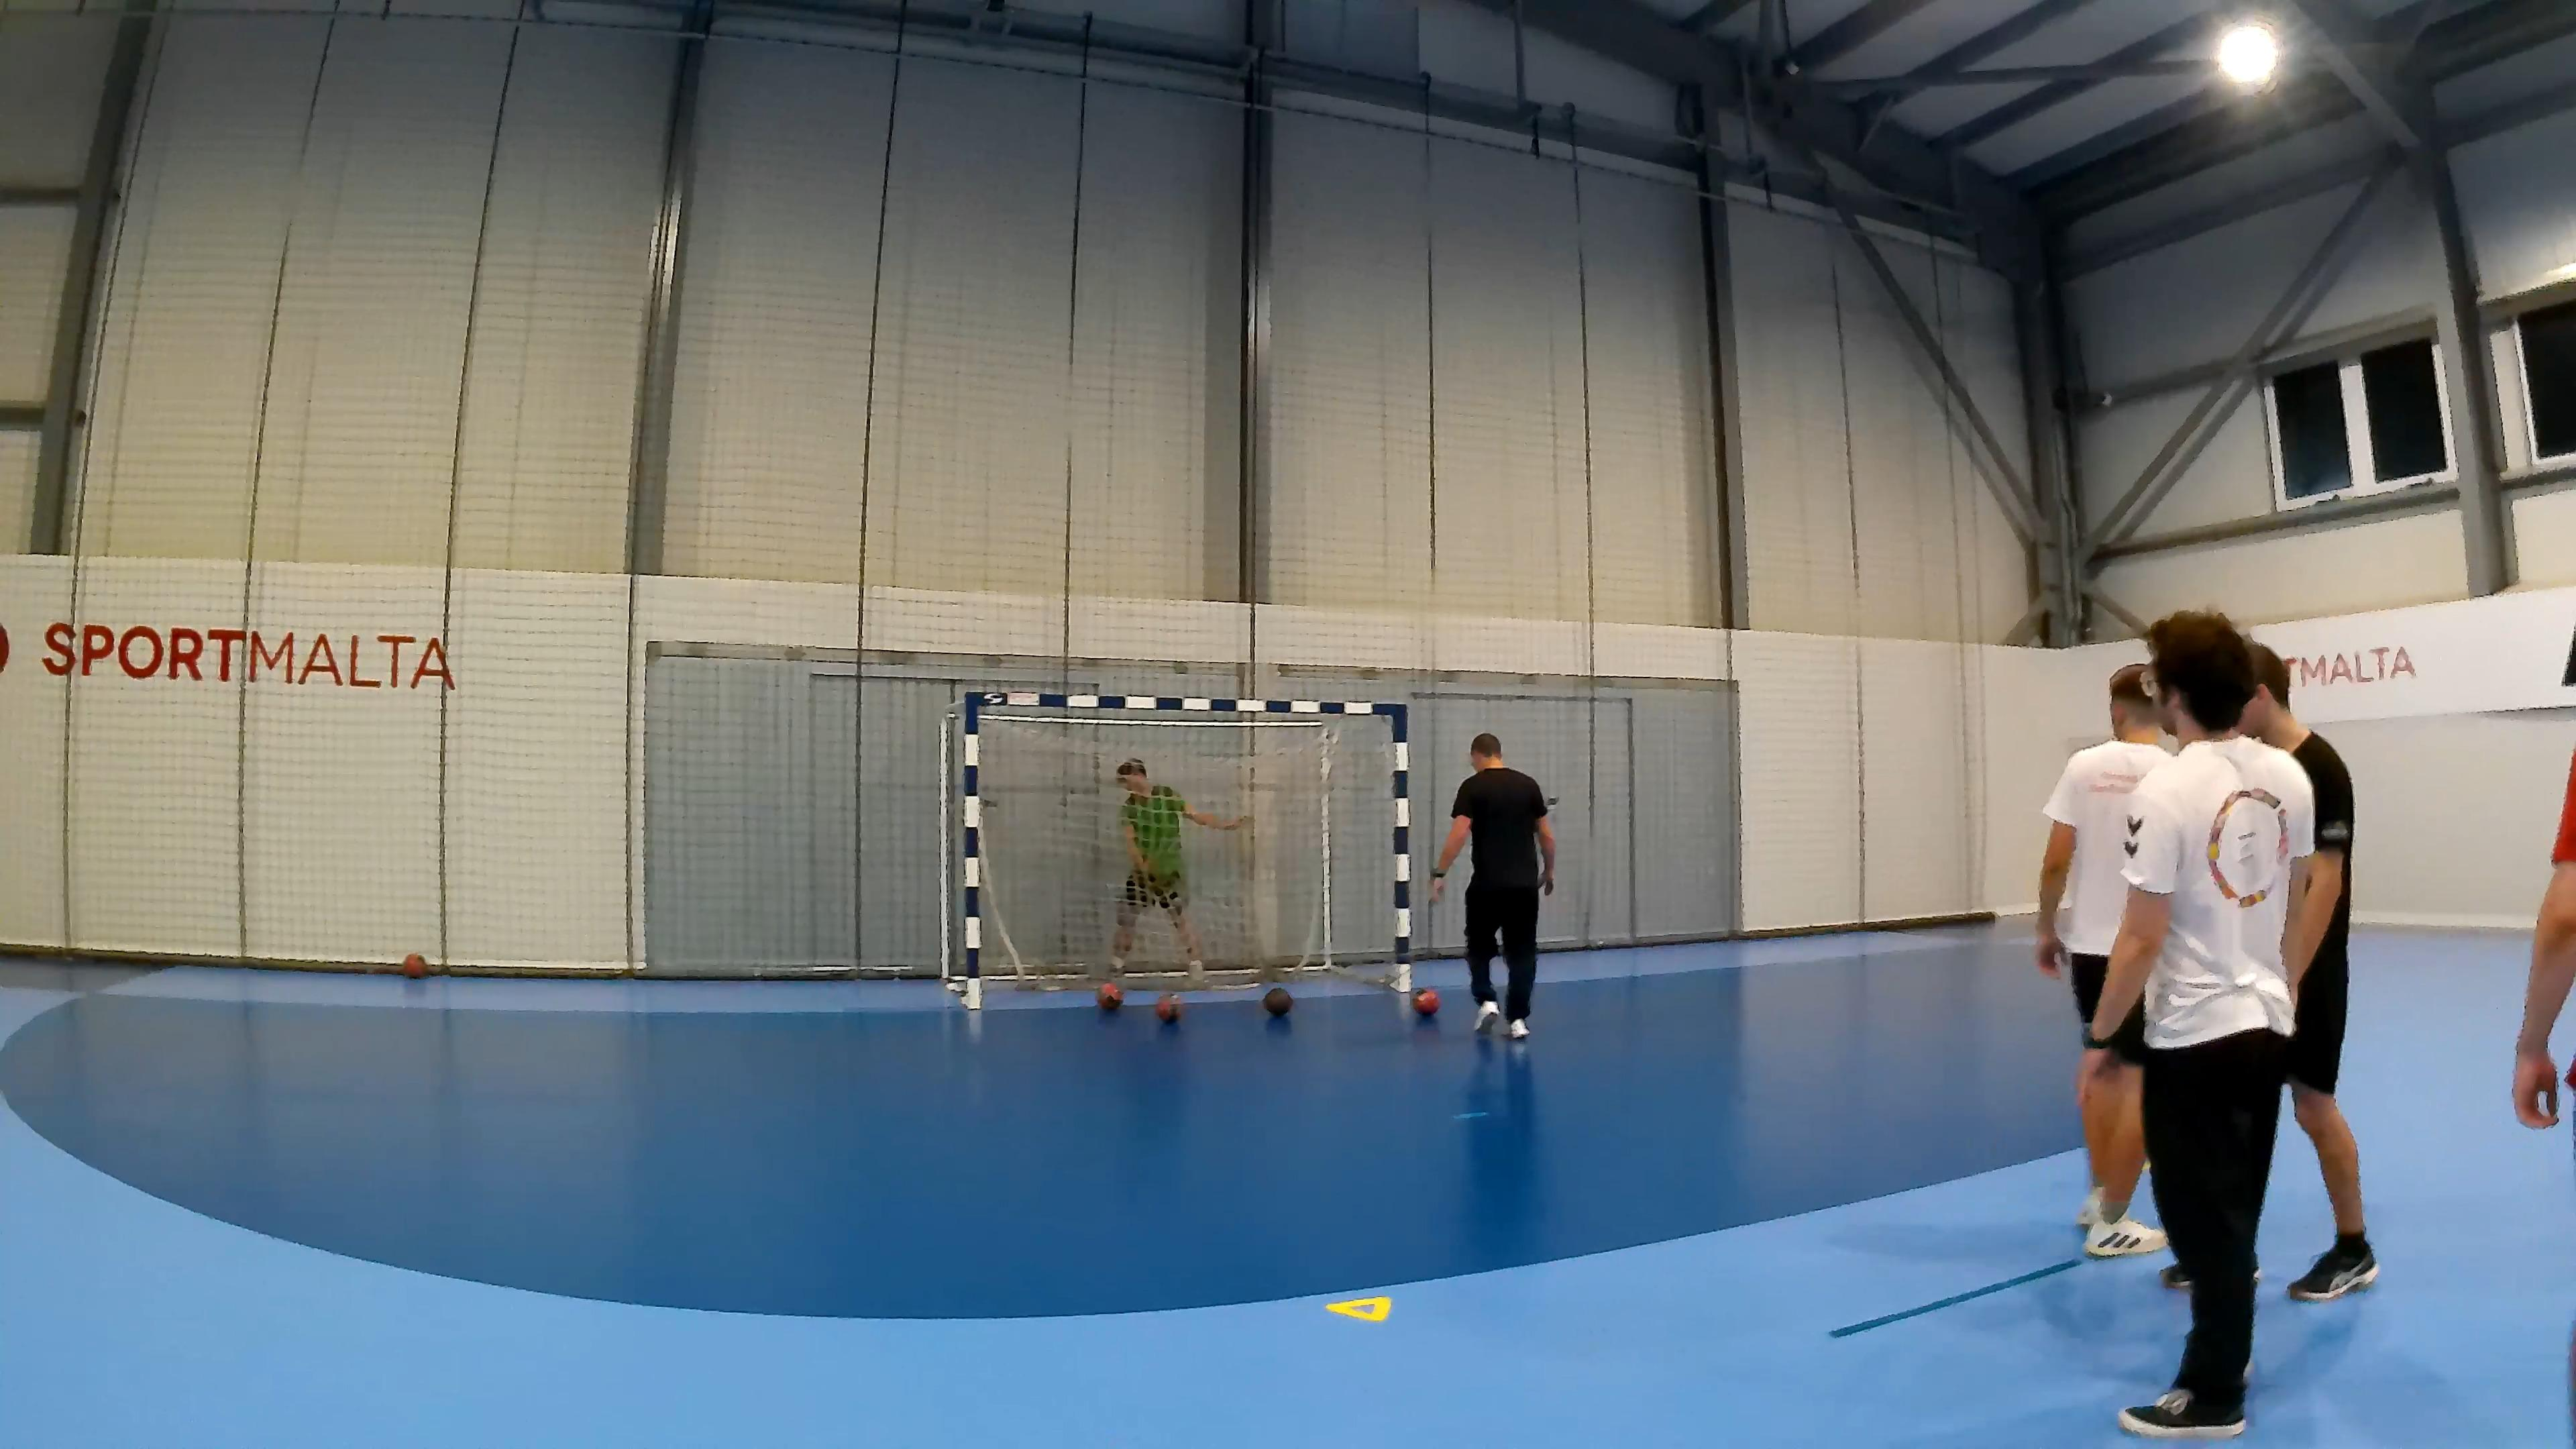handball: (1260, 985, 1292, 1016), (1412, 987, 1440, 1016), (1097, 980, 1122, 1010), (1154, 994, 1180, 1021)
